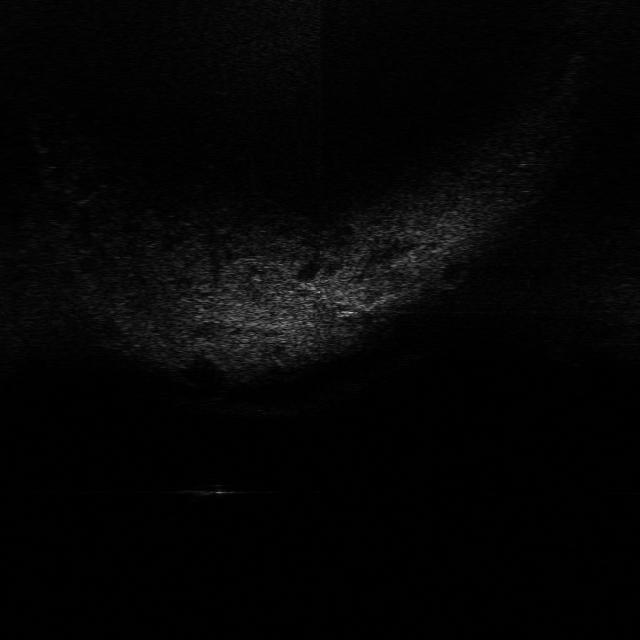cube: (177, 478, 239, 498)
